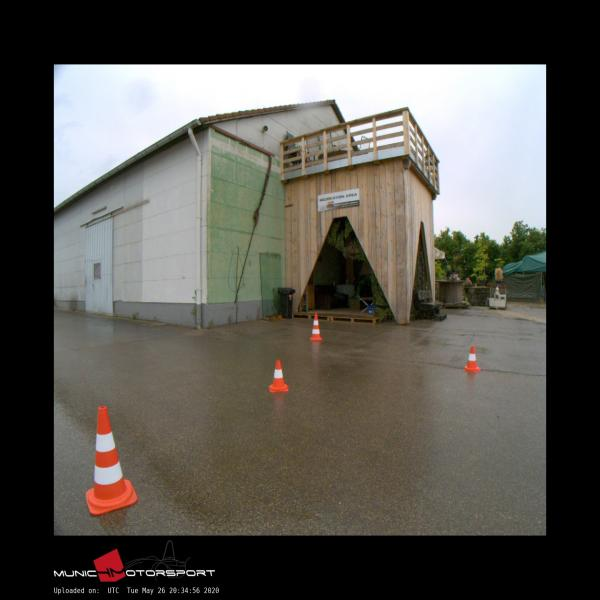large_orange_cone: (86, 407, 137, 515), (310, 314, 322, 340)
orange_cone: (268, 359, 288, 392), (462, 346, 480, 371)
